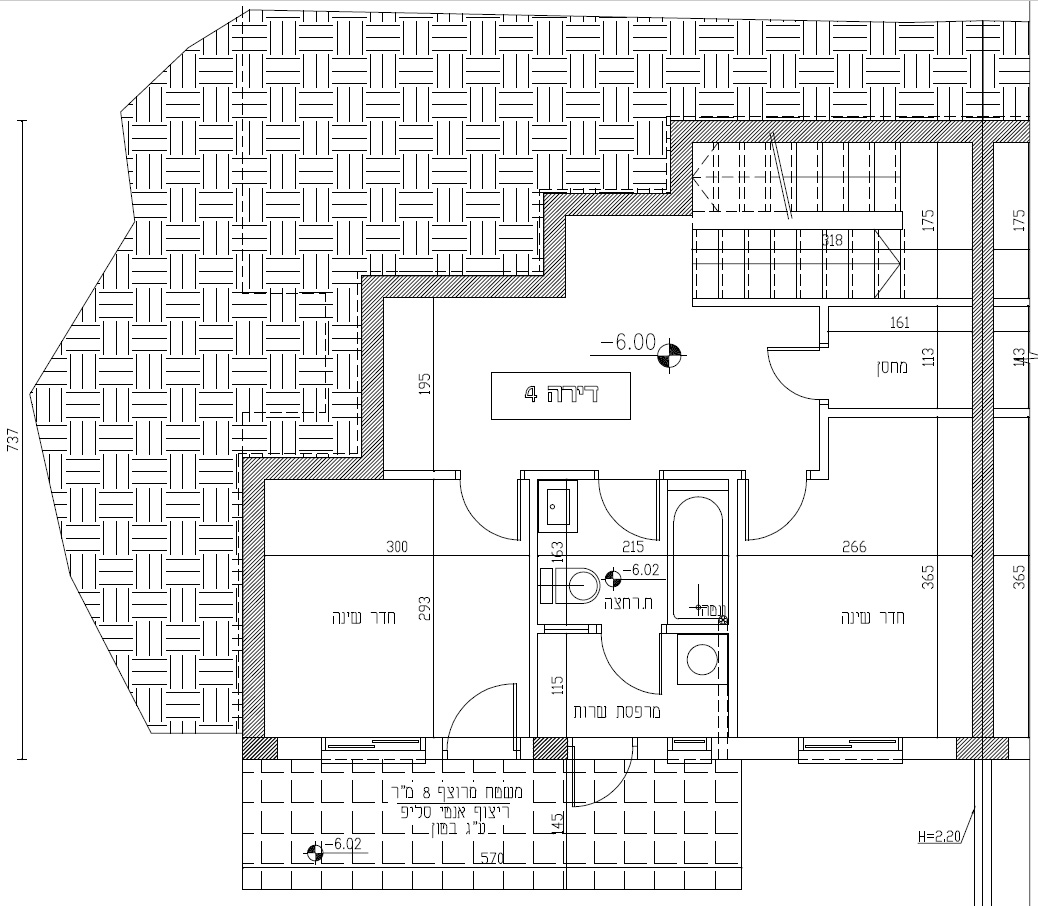door: (739, 337, 813, 414), (452, 482, 525, 548), (596, 641, 671, 700), (444, 677, 523, 731), (595, 489, 666, 547), (742, 487, 810, 547)
wall: (972, 119, 983, 734), (243, 458, 264, 736), (673, 124, 985, 142), (363, 278, 382, 474), (364, 277, 564, 295), (546, 196, 691, 212), (246, 460, 382, 477), (671, 123, 691, 213), (545, 195, 563, 294)
window: (796, 732, 905, 771), (321, 732, 427, 765), (667, 732, 713, 765)
